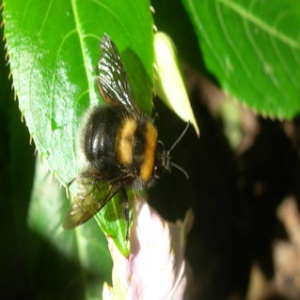bee: (81, 106, 177, 210)
